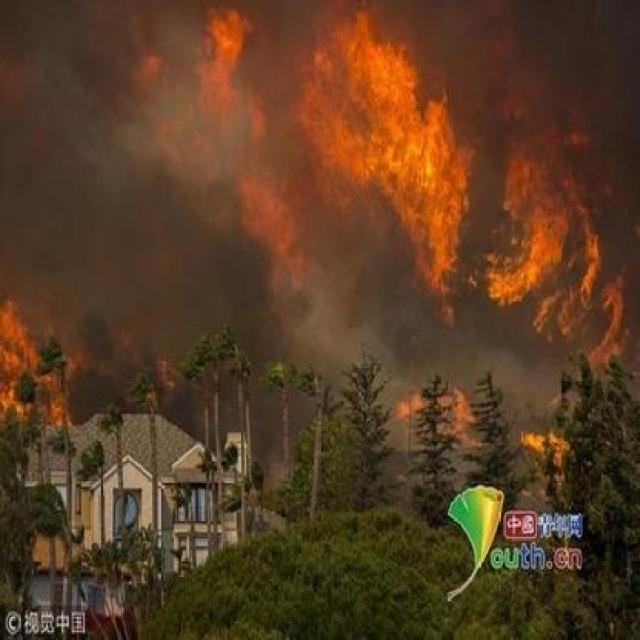Fire: (301, 2, 640, 372), (4, 291, 69, 451), (387, 374, 484, 452), (520, 426, 578, 470)
Smoke: (0, 6, 298, 282)
